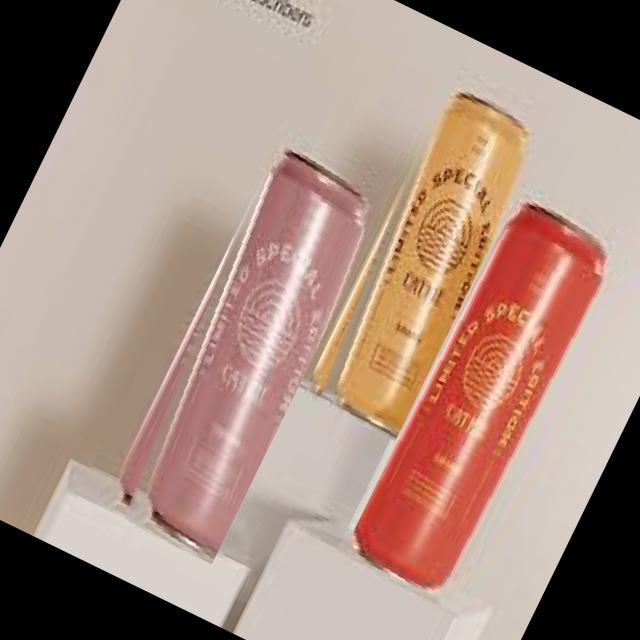Cans: (90, 117, 400, 564), (343, 175, 640, 607), (290, 67, 552, 440)
